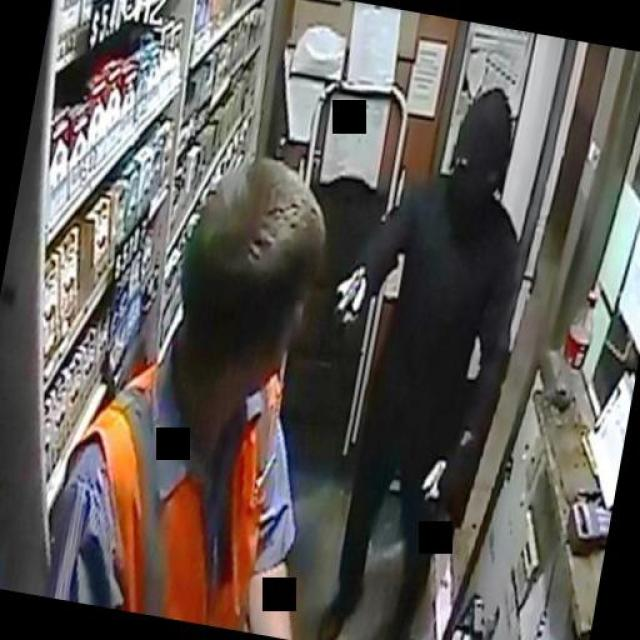gun: (329, 266, 365, 332)
